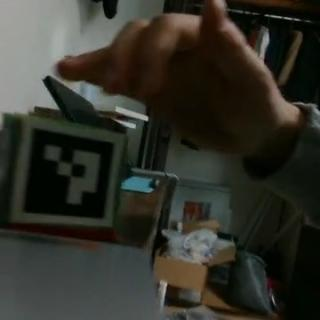armor: (10, 116, 125, 230)
robot: (0, 114, 129, 232)
